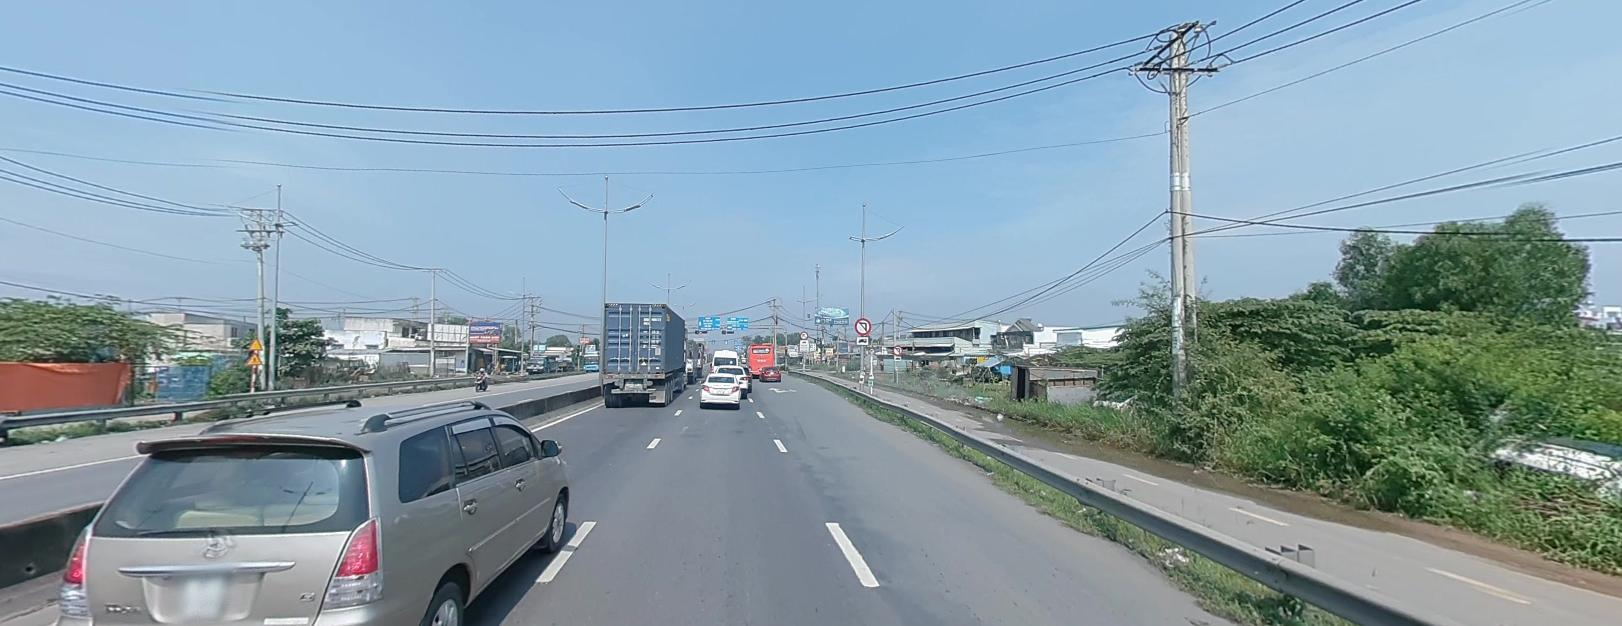Cam re: (854, 315, 871, 334), (893, 342, 903, 353), (800, 329, 808, 337)
Nguy hiem: (243, 350, 263, 363), (247, 335, 264, 348)
